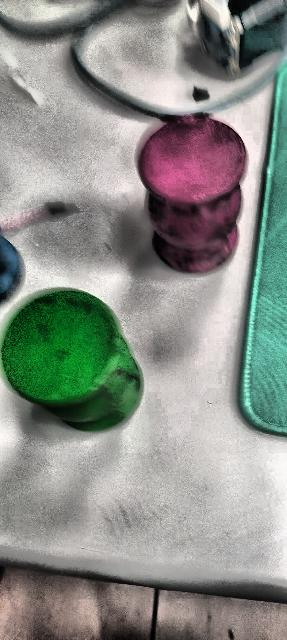blue: (2, 288, 144, 432)
red: (135, 114, 259, 282)
